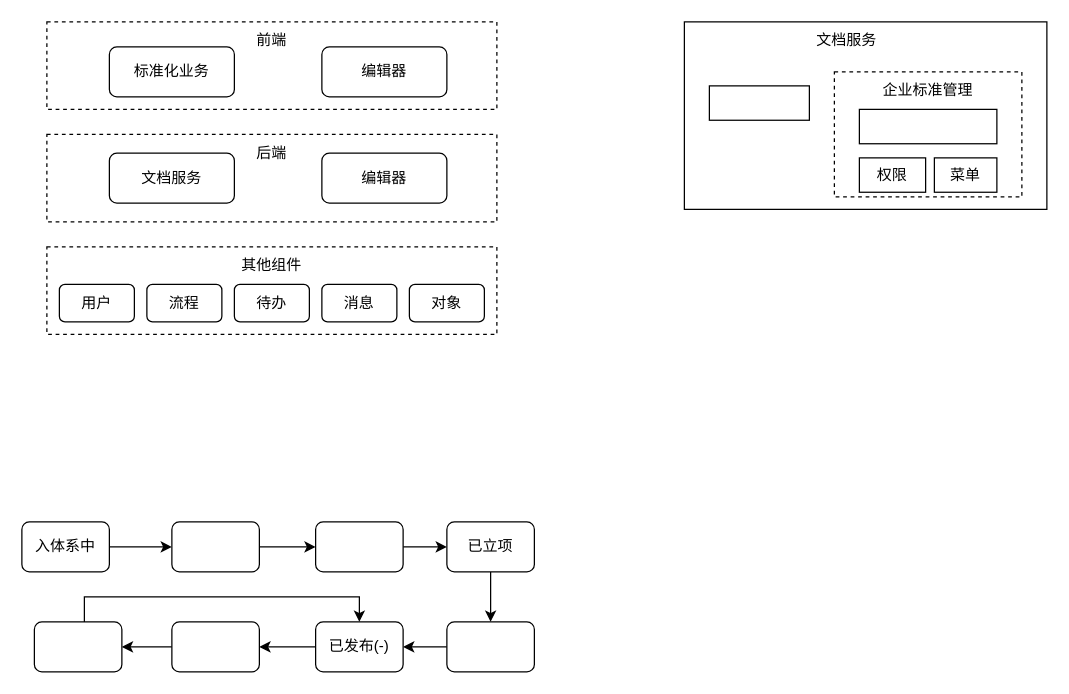
Image size: 1069x694. Some labels were removed from this diagram. Here are the shapes that lost their labels. From the top down, the box of each, then its label:
(708, 85, 809, 120): 通用文件
(858, 108, 997, 144): 企业标准
(171, 521, 259, 572): 待编项
(314, 521, 403, 572): 立项中
(33, 621, 122, 672): 复审中
(171, 621, 259, 672): 待复审
(446, 621, 534, 672): 制定中
